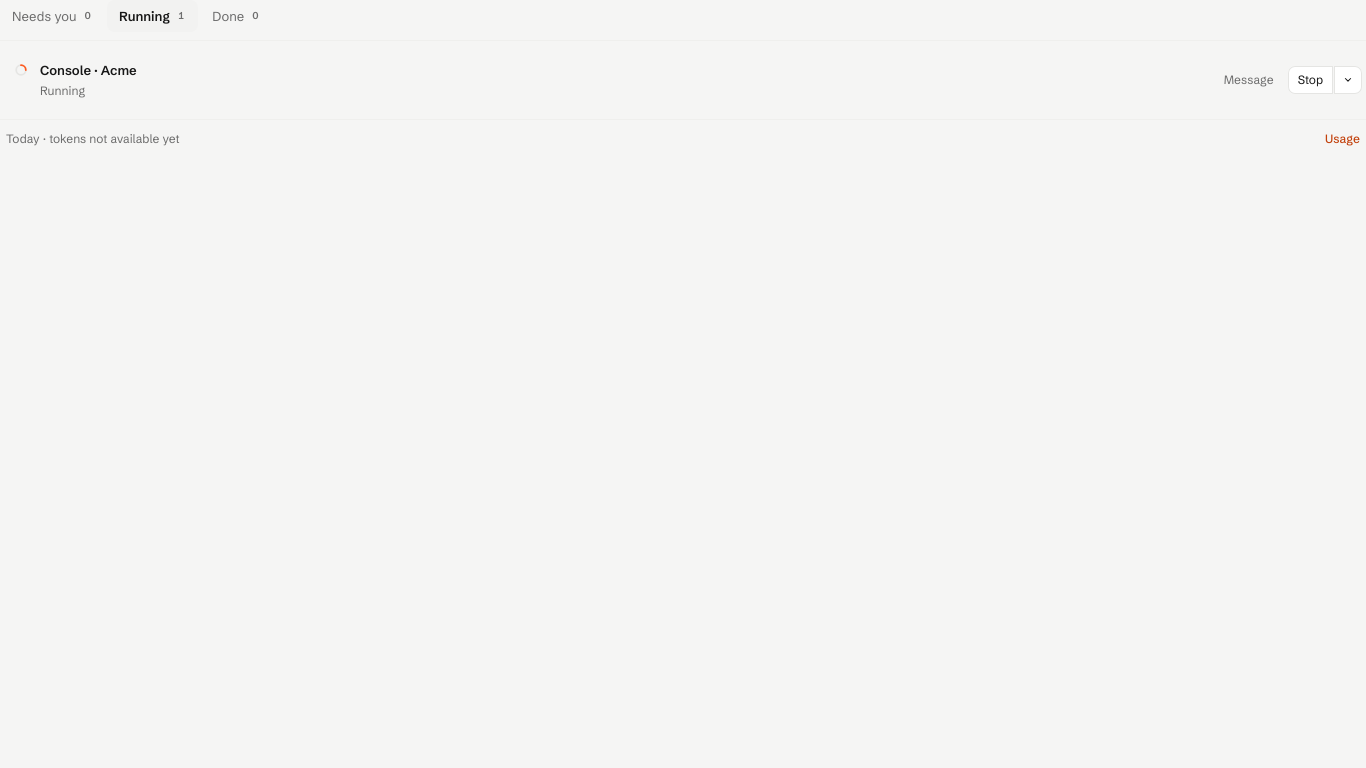
Test: console message in the Activity center › each open asks again and never shows the value of the previous open while it waits
Step 1. Click the button "Message" → [1249, 80], box [1214,66,1284,94]
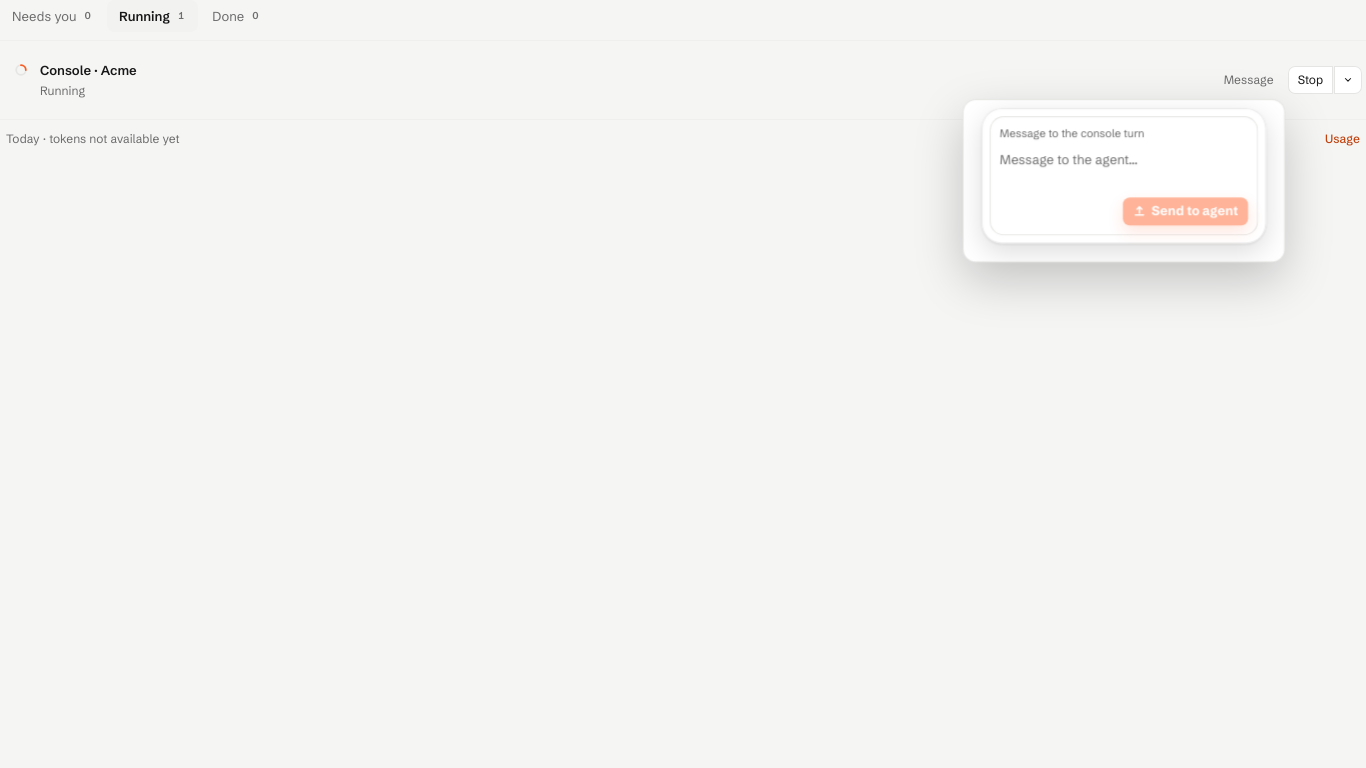
Check: the text box is enabled, box [1000,150,1248,189]
Step 2. Press Escape
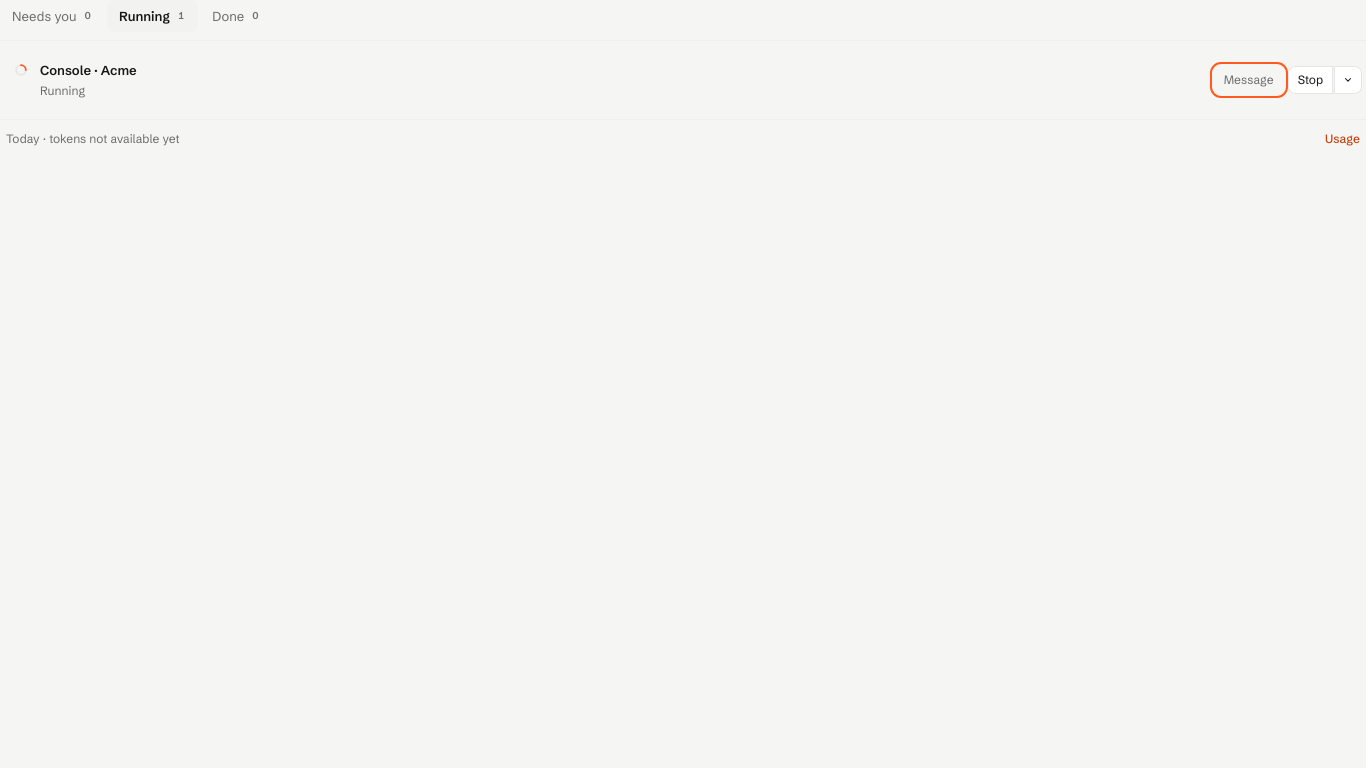
Check: the dialog is gone
Step 3. Click the button "Message" → [1249, 80], box [1214,66,1284,94]
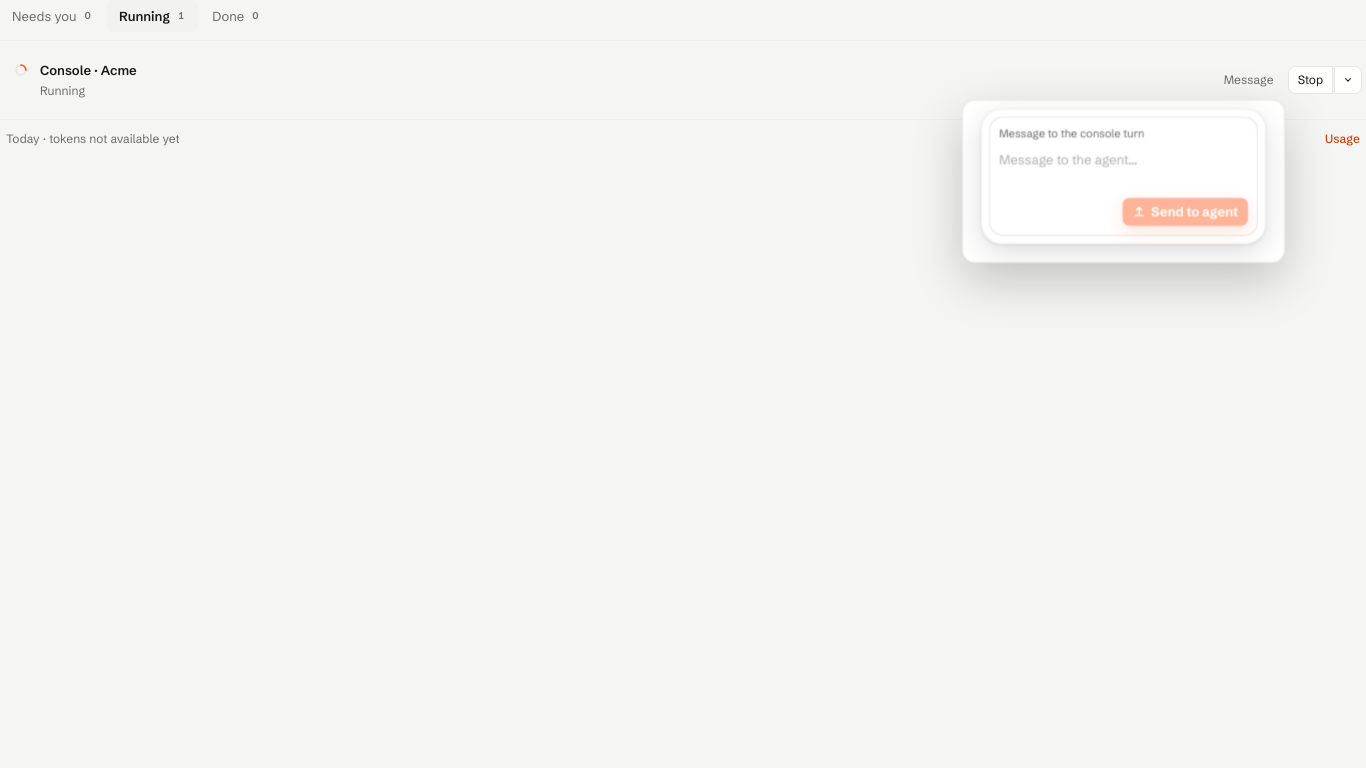
Check: the text box is disabled, box [1000,150,1248,189]
